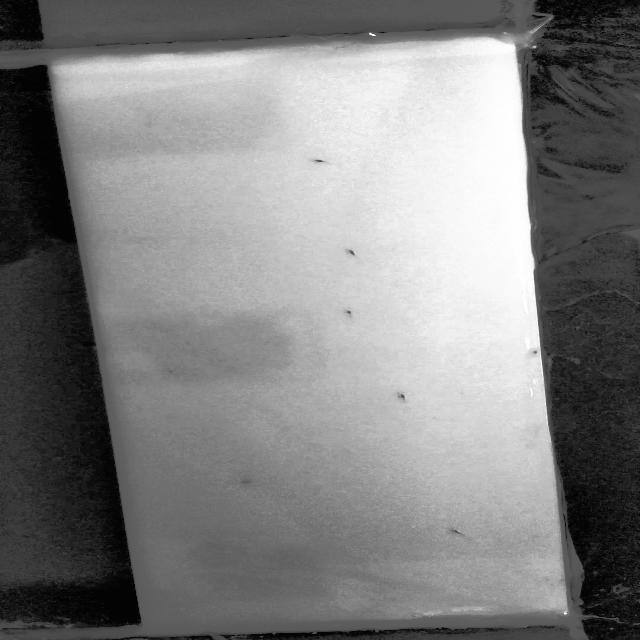shrimp: (335, 246, 379, 264), (437, 522, 471, 543), (303, 151, 336, 172), (385, 387, 421, 405), (234, 475, 262, 491), (336, 308, 358, 319)
